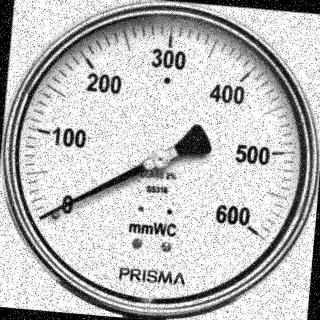gauge: (0, 0, 320, 320), (229, 211, 268, 246), (41, 196, 71, 225), (149, 144, 171, 170), (35, 210, 50, 224)
